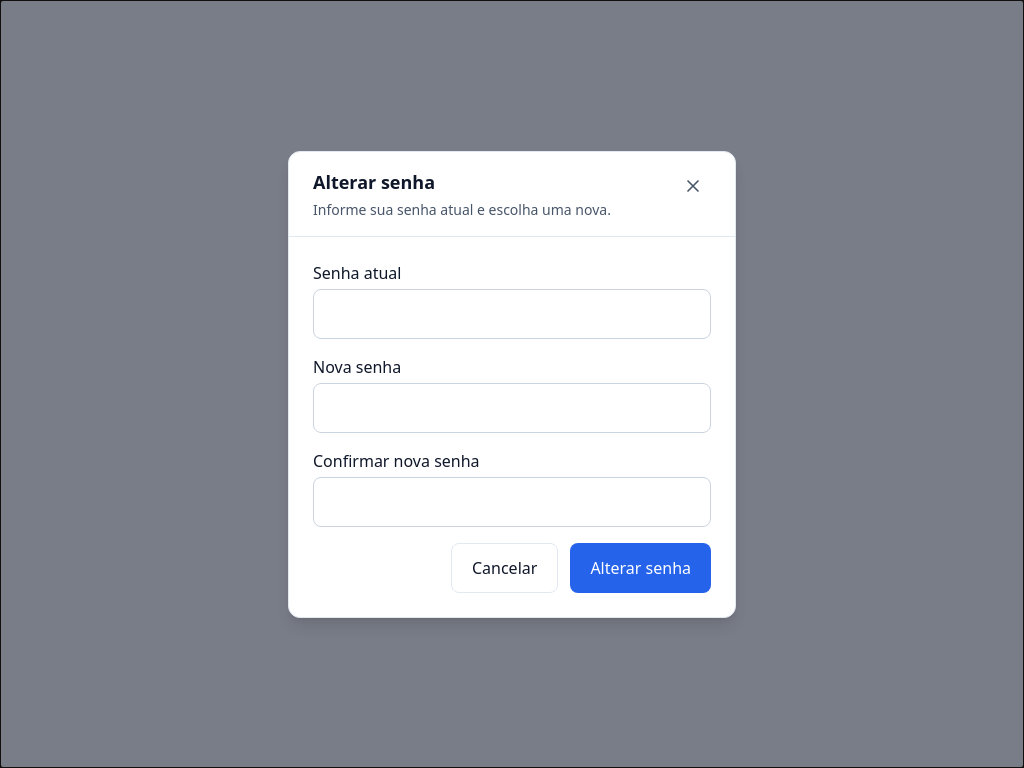
Test: erros de campo acessíveis nos formulários › troca de senha: todos os campos com erro
Click the button "Alterar senha" at (641, 568), box [570,542,711,592]
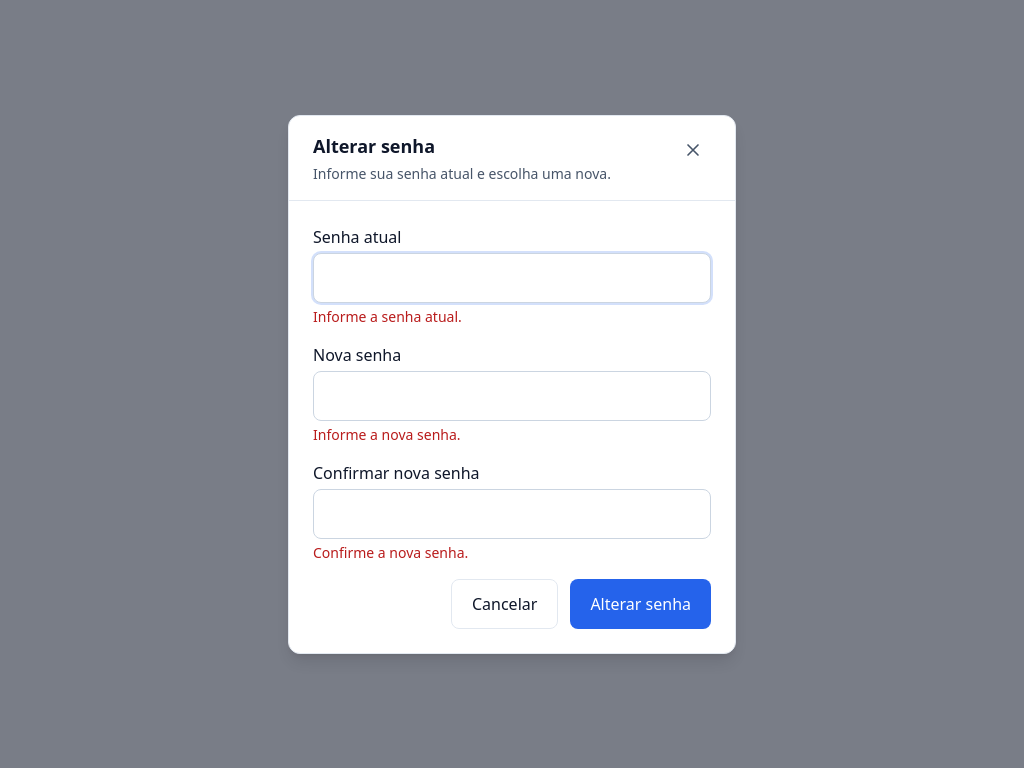
expect the text "Informe a senha atual." is shown: met, box [313,306,462,326]
